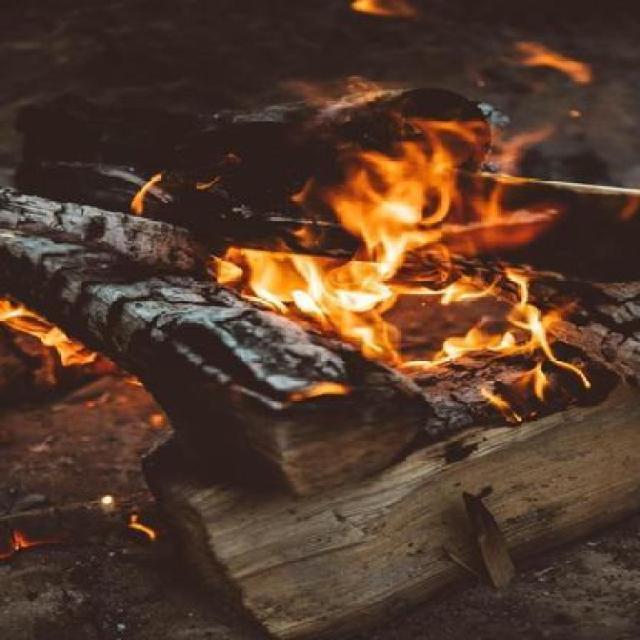Fire: (206, 112, 594, 430), (0, 293, 97, 382), (514, 35, 597, 86), (329, 70, 401, 106), (130, 164, 167, 222), (350, 0, 426, 22), (614, 180, 640, 218), (2, 526, 30, 558), (129, 518, 155, 542), (95, 491, 116, 515)
